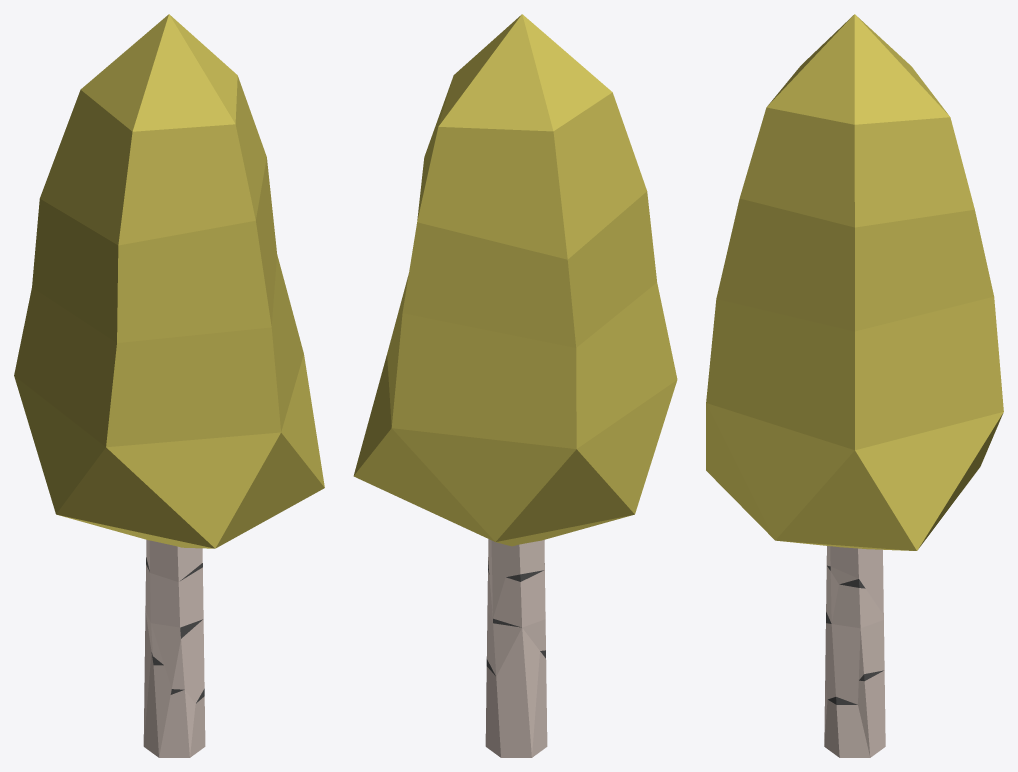
Rendered from T_Aspen1.fbx.
3 views of the same model, side by side, from view 1: azimuth 30°, elevation 25°; view 2: azimuth 150°, elevation 25°; view 3: azimuth 270°, elevation 25° (orthographic).
Visible parts, largest first — view 1: Cylinder; view 2: Cylinder; view 3: Cylinder.
Part boxes in pixels (x1,y1,x2,y2): Cylinder: (14, 14, 324, 757); Cylinder: (353, 14, 677, 757); Cylinder: (706, 14, 1003, 757).
Bounding box in the file's own units: 2.84 × 7.97 × 2.95.
